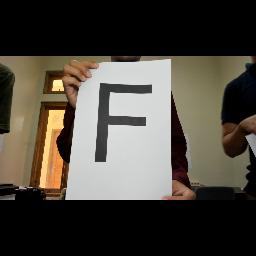f: (90, 80, 156, 168)
